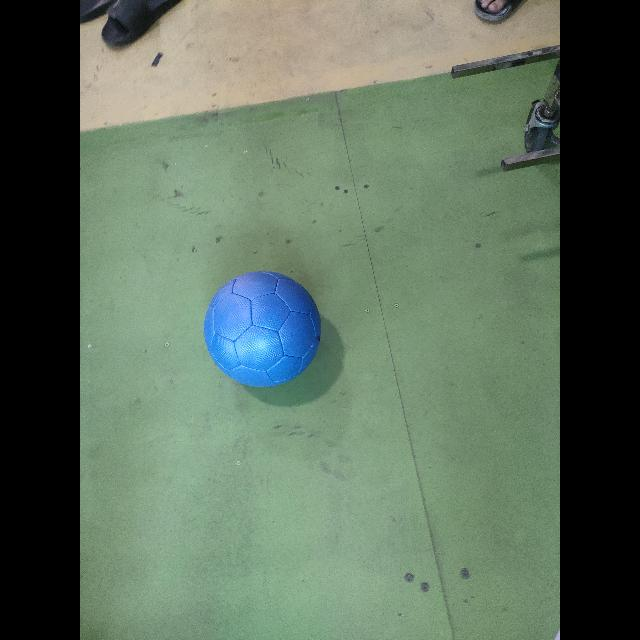B: (203, 272, 323, 391)
